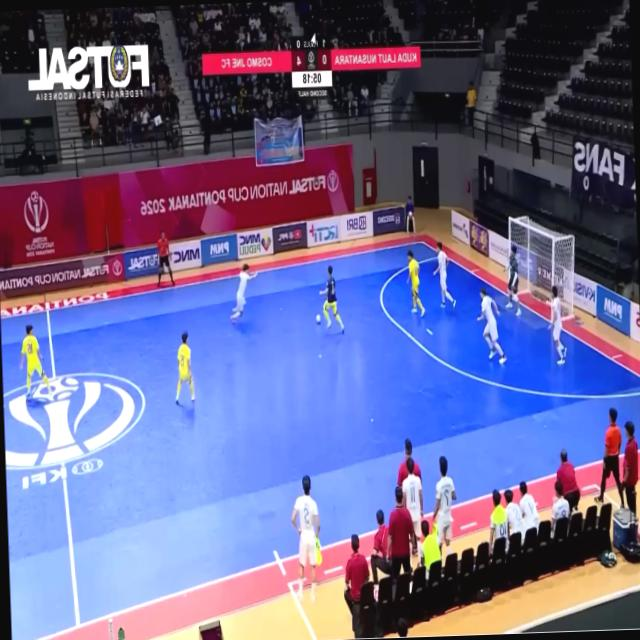official: (344, 534, 368, 638)
players: (291, 476, 319, 602), (432, 456, 455, 557), (20, 326, 51, 397), (477, 288, 505, 363), (401, 457, 422, 554), (319, 266, 343, 332), (230, 263, 256, 323), (432, 241, 454, 308), (175, 332, 193, 404), (550, 286, 566, 365), (407, 250, 423, 316), (506, 245, 519, 316), (157, 231, 173, 287)
referee: (594, 408, 623, 507), (157, 231, 173, 286)
